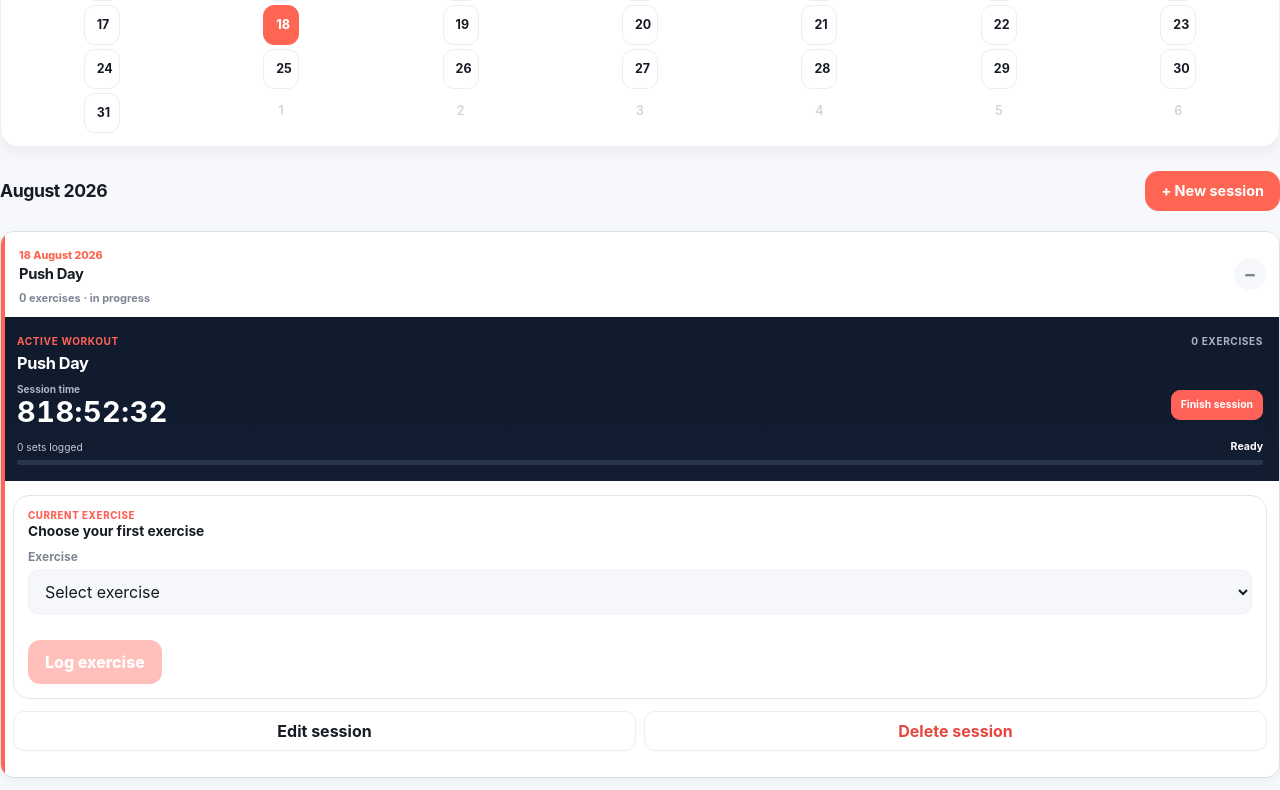
Test: WorkoutLogPage › will not log an exercise with no values filled in
The image size is (1280, 790).
(page scrolled)
Select "Bench Press" in the dropdown labelled "Exercise" at [640, 592], box [28,570,1252,614]
(page scrolled)
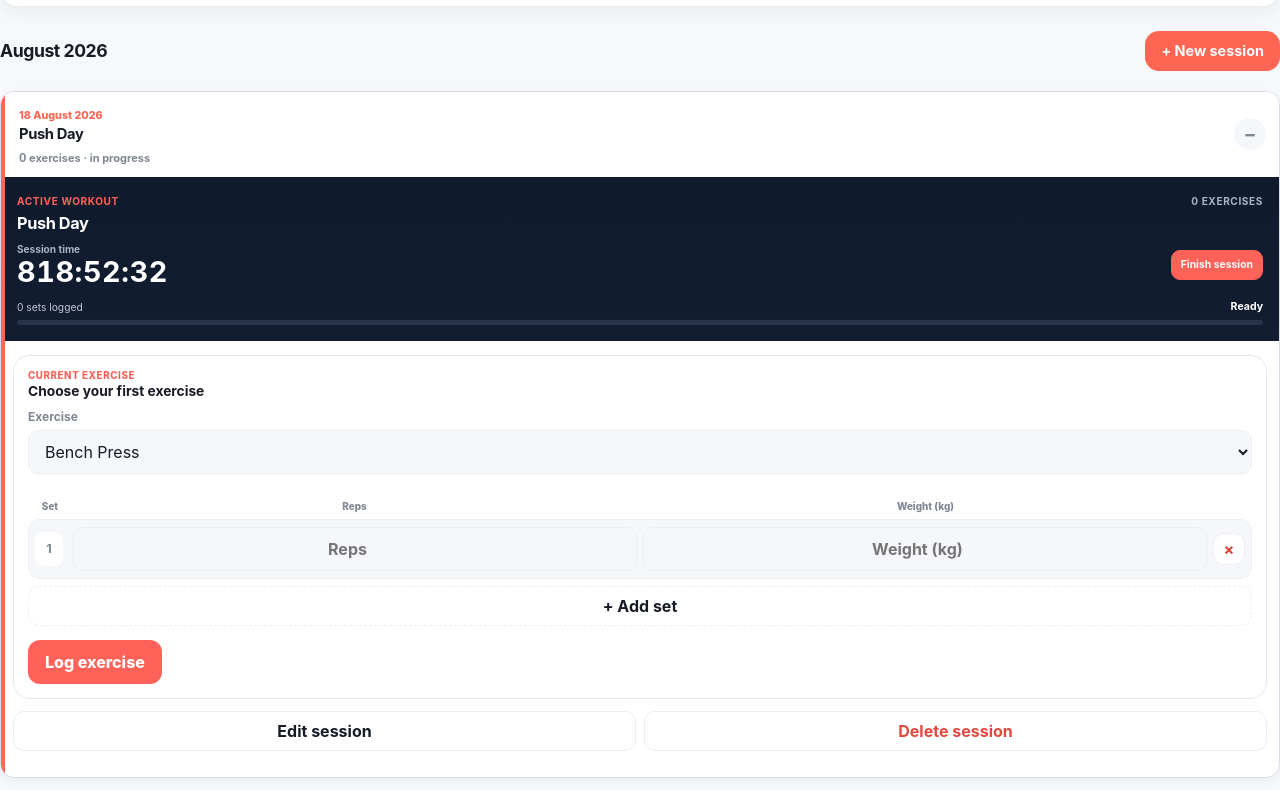
Click the button "Log exercise".
click(95, 662)  # box [28,640,162,684]
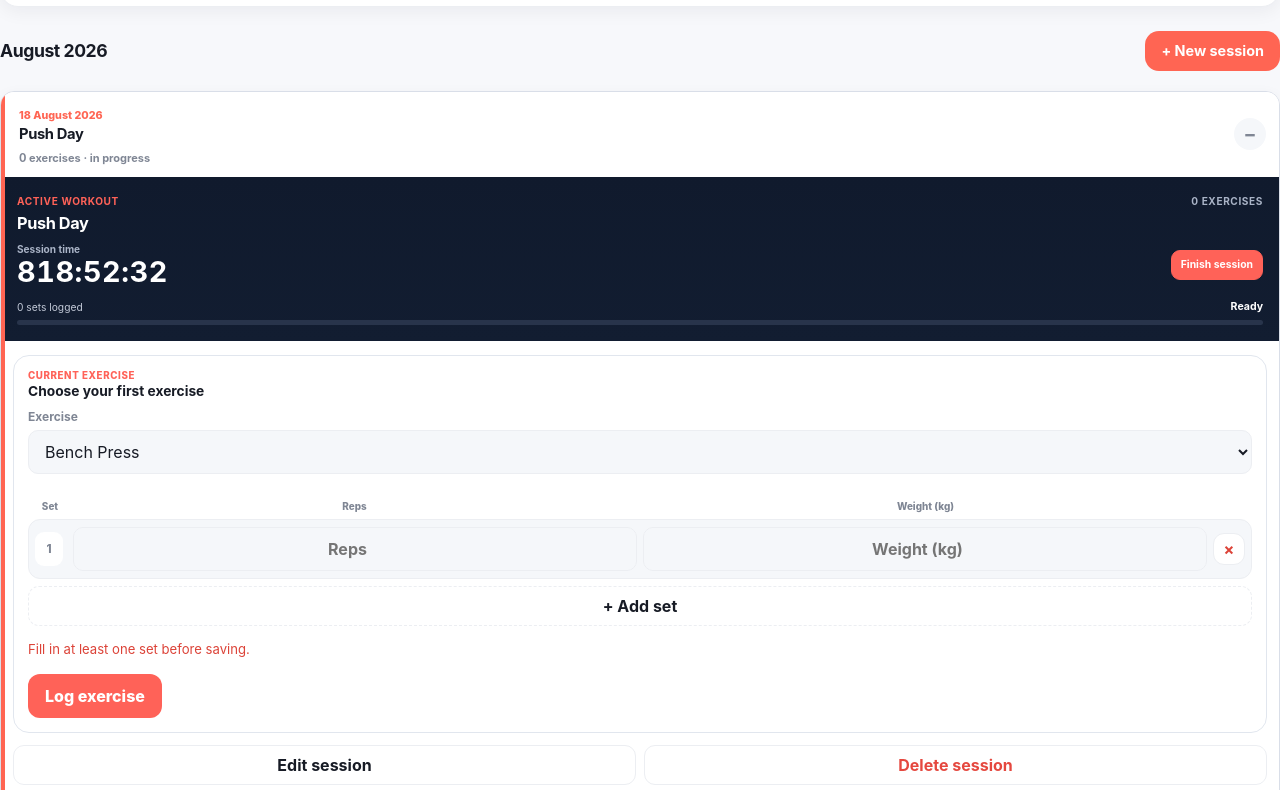
Check: the message shows "at least one set", box [28,641,250,657]
